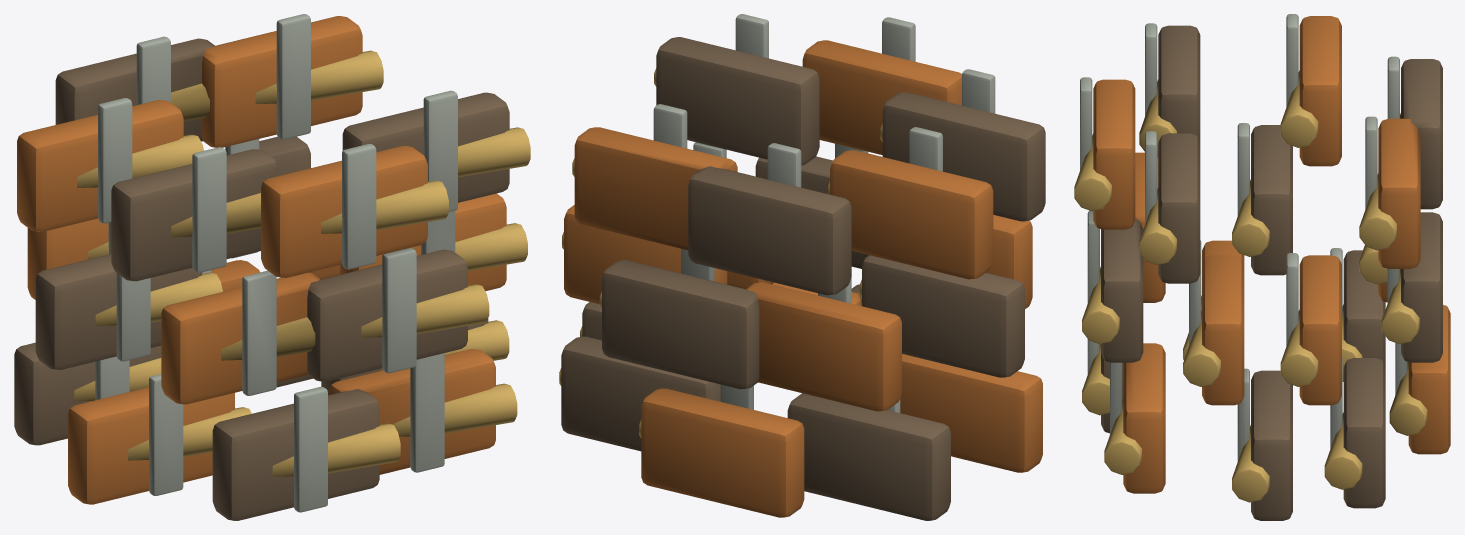
The model's file is kf-ammo-fragments.glb.
3 renders of one model, left to right at view 1: azimuth 30°, elevation 25°; view 2: azimuth 150°, elevation 25°; view 3: azimuth 270°, elevation 25°, orthographic. The views are drawn at different scales.
Parts seen in each view (by area): view 1: Shard_06 Crate timber, Shard_05 Munitions orange, Shard_08 Crate timber, Shard_04 Crate timber, Shard_17 Munitions orange, Shard_07 Munitions orange, Shard_11 Munitions orange, Shard_09 Munitions orange, Shard_10 Crate timber, Shard_03 Munitions orange, Shard_02 Crate timber, Shard_14 Crate timber (+34 smaller); view 2: Shard_15 Munitions orange, Shard_14 Crate timber, Shard_16 Crate timber, Shard_11 Munitions orange, Shard_12 Crate timber, Shard_02 Crate timber, Shard_13 Munitions orange, Shard_10 Crate timber, Shard_17 Munitions orange, Shard_08 Crate timber, Shard_09 Munitions orange, Shard_05 Munitions orange (+13 smaller); view 3: Shard_01 Munitions orange, Shard_02 Crate timber, Shard_05 Munitions orange, Shard_11 Munitions orange, Shard_18 Crate timber, Shard_19 Munitions orange, Shard_17 Munitions orange, Shard_00 Crate timber, Shard_03 Munitions orange, Shard_10 Crate timber, Shard_04 Crate timber, Shard_16 Crate timber (+35 smaller).
Boxes of the visible parts, <box> form: Shard_06 Crate timber: <box>212,389,379,520</box>; Shard_05 Munitions orange: <box>261,146,427,277</box>; Shard_08 Crate timber: <box>111,149,277,281</box>; Shard_04 Crate timber: <box>307,249,467,381</box>; Shard_17 Munitions orange: <box>202,16,362,147</box>; Shard_07 Munitions orange: <box>161,272,320,404</box>; Shard_11 Munitions orange: <box>17,100,183,231</box>; Shard_09 Munitions orange: <box>68,387,234,504</box>; Shard_10 Crate timber: <box>35,254,202,369</box>; Shard_03 Munitions orange: <box>329,349,495,474</box>; Shard_02 Crate timber: <box>342,92,509,202</box>; Shard_14 Crate timber: <box>55,38,214,141</box>; Shard_15 Munitions orange: <box>641,388,804,517</box>; Shard_14 Crate timber: <box>688,166,851,295</box>; Shard_16 Crate timber: <box>602,260,759,389</box>; Shard_11 Munitions orange: <box>830,150,993,279</box>; Shard_12 Crate timber: <box>787,393,950,520</box>; Shard_02 Crate timber: <box>656,37,819,165</box>; Shard_13 Munitions orange: <box>746,282,901,411</box>; Shard_10 Crate timber: <box>862,255,1024,377</box>; Shard_17 Munitions orange: <box>574,127,737,250</box>; Shard_08 Crate timber: <box>882,92,1045,221</box>; Shard_09 Munitions orange: <box>900,354,1042,472</box>; Shard_05 Munitions orange: <box>802,40,961,154</box>; Shard_01 Munitions orange: <box>1202,255,1244,405</box>; Shard_02 Crate timber: <box>1158,133,1200,283</box>; Shard_05 Munitions orange: <box>1093,79,1135,229</box>; Shard_11 Munitions orange: <box>1299,16,1341,166</box>; Shard_18 Crate timber: <box>1343,358,1385,508</box>; Shard_19 Munitions orange: <box>1299,255,1341,405</box>; Shard_17 Munitions orange: <box>1378,118,1420,268</box>; Shard_00 Crate timber: <box>1251,370,1292,520</box>; Shard_03 Munitions orange: <box>1123,343,1165,493</box>; Shard_10 Crate timber: <box>1251,125,1292,275</box>; Shard_04 Crate timber: <box>1101,218,1143,362</box>; Shard_16 Crate timber: <box>1401,212,1442,362</box>.
Size of the model in its own units: 0.884 by 0.665 by 0.6688.
